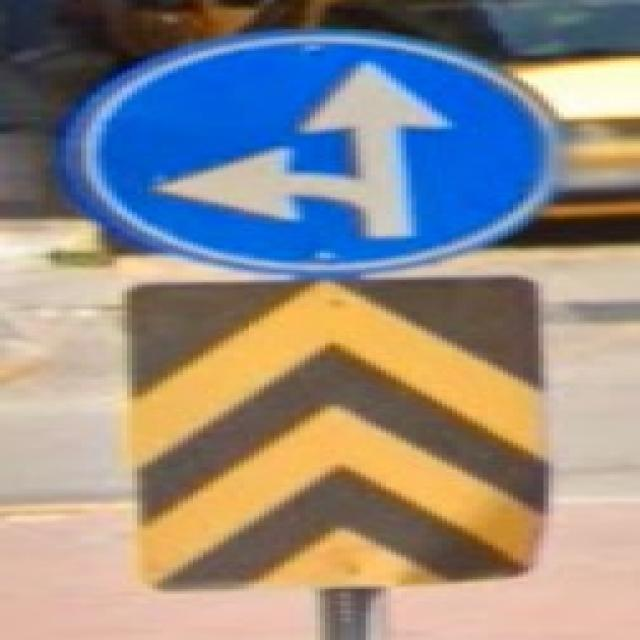Straight or Left: (62, 30, 560, 274)
